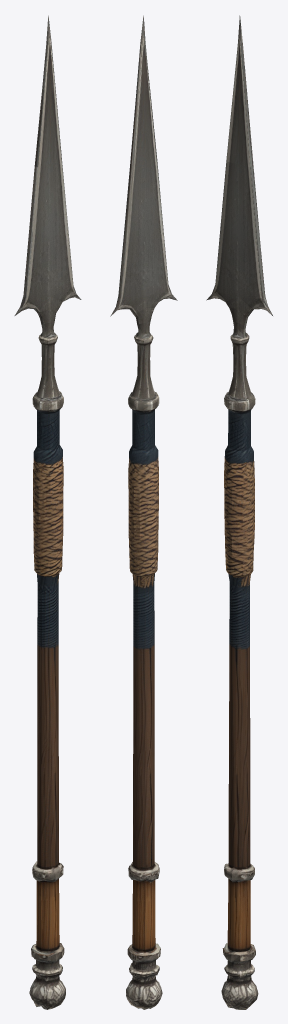
File: throwing_javelin.glb
3 views of the same model, side by side, from view 1: azimuth 30°, elevation 25°; view 2: azimuth 210°, elevation 25°; view 3: azimuth 330°, elevation 25° (orthographic).
Parts seen in each view (by area): view 1: Throwing Javelin; view 2: Throwing Javelin; view 3: Throwing Javelin.
Boxes of the visible parts, x1,y1,x2,y2 form: Throwing Javelin: (14,15,81,1009); Throwing Javelin: (110,15,177,1009); Throwing Javelin: (206,15,272,1009).
Size of the model in its own units: 0.1276 by 1.79 by 0.0592.
1 material, 1 textured.
